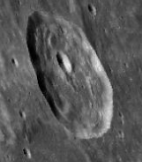crater: (11, 7, 128, 147)
